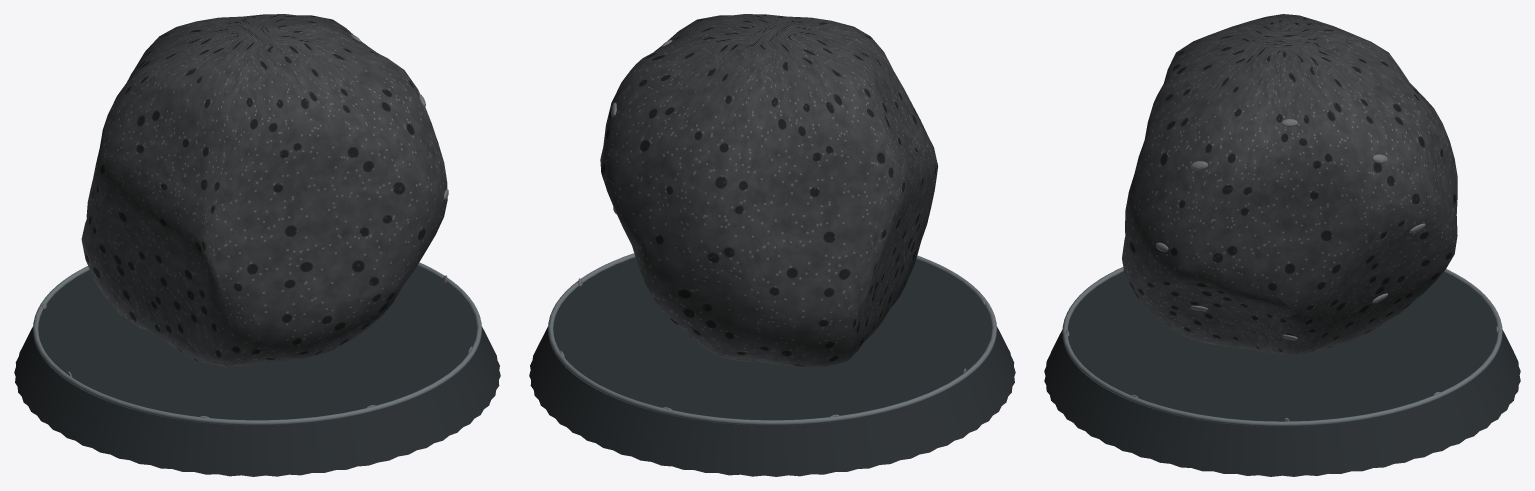
The picture shows the model from 3 angles, left to right: view 1: azimuth 30°, elevation 25°; view 2: azimuth 150°, elevation 25°; view 3: azimuth 270°, elevation 25°; orthographic projection. The views are drawn at different scales.
Visible parts, largest first — view 1: surface specimen, neutral specimen stand, specimen edge; view 2: surface specimen, neutral specimen stand, specimen edge; view 3: surface specimen, neutral specimen stand, specimen edge, turned rim.
Part boxes in pixels (left/top/right/bottom): surface specimen: left=81, top=14, right=447, bottom=366; neutral specimen stand: left=14, top=266, right=500, bottom=476; specimen edge: left=33, top=262, right=481, bottom=425; surface specimen: left=600, top=14, right=938, bottom=366; neutral specimen stand: left=529, top=257, right=1015, bottom=476; specimen edge: left=548, top=253, right=996, bottom=425; surface specimen: left=1122, top=14, right=1457, bottom=355; neutral specimen stand: left=1044, top=271, right=1520, bottom=476; specimen edge: left=1062, top=267, right=1502, bottom=426; turned rim: left=1155, top=119, right=1425, bottom=340.
Size of the model in its own units: 0.539 by 0.421 by 0.539.
4 materials, 1 textured.
